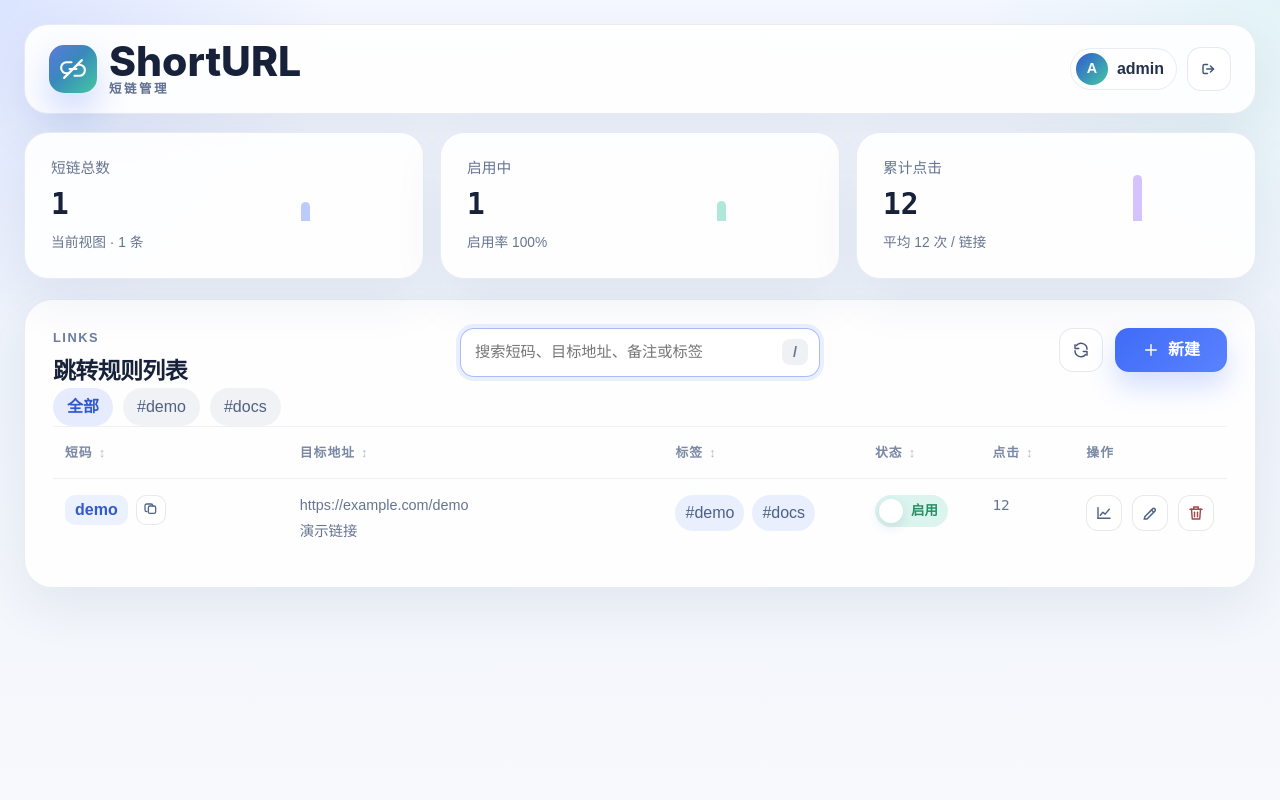
LinksPage › deletes a link after confirmation
Click the button named "删除 demo": (1196, 513) [1178,495,1214,531]
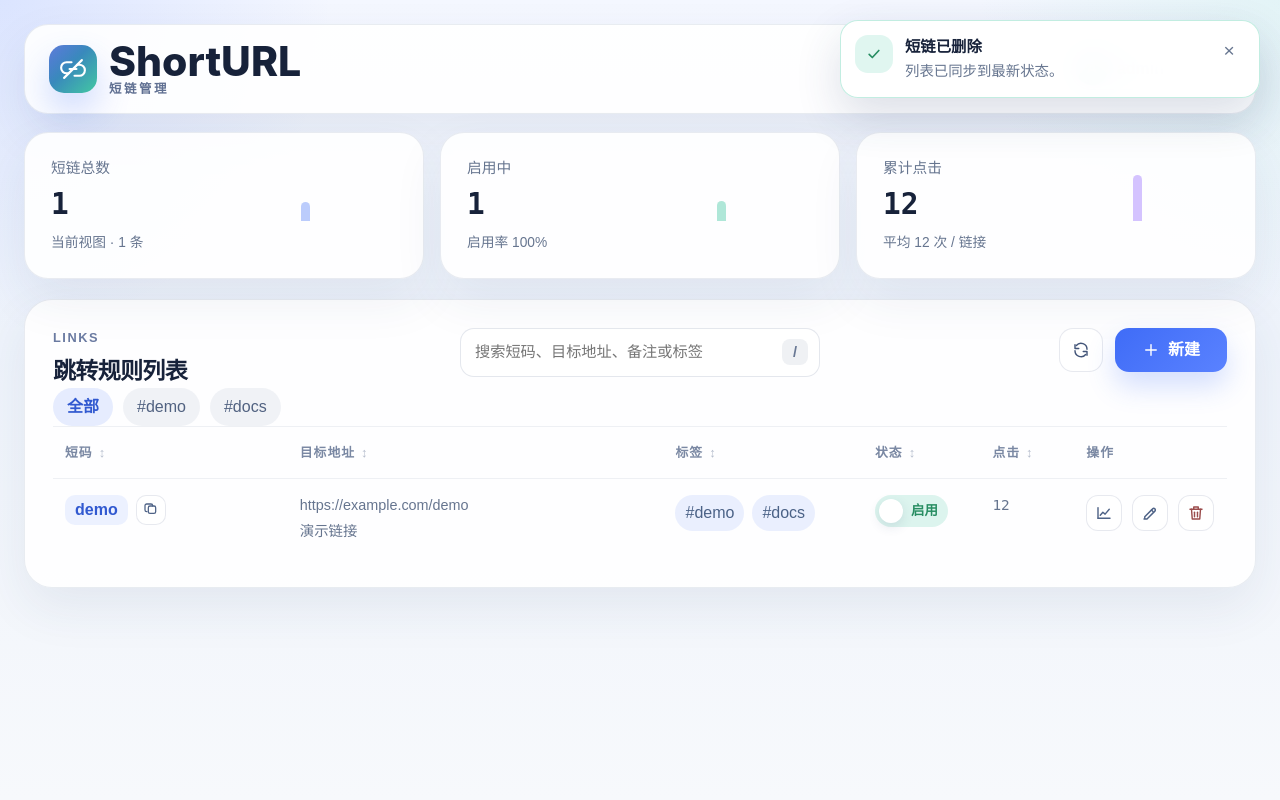
Expected: the text "短链已删除" is shown, [905,38,982,55]
